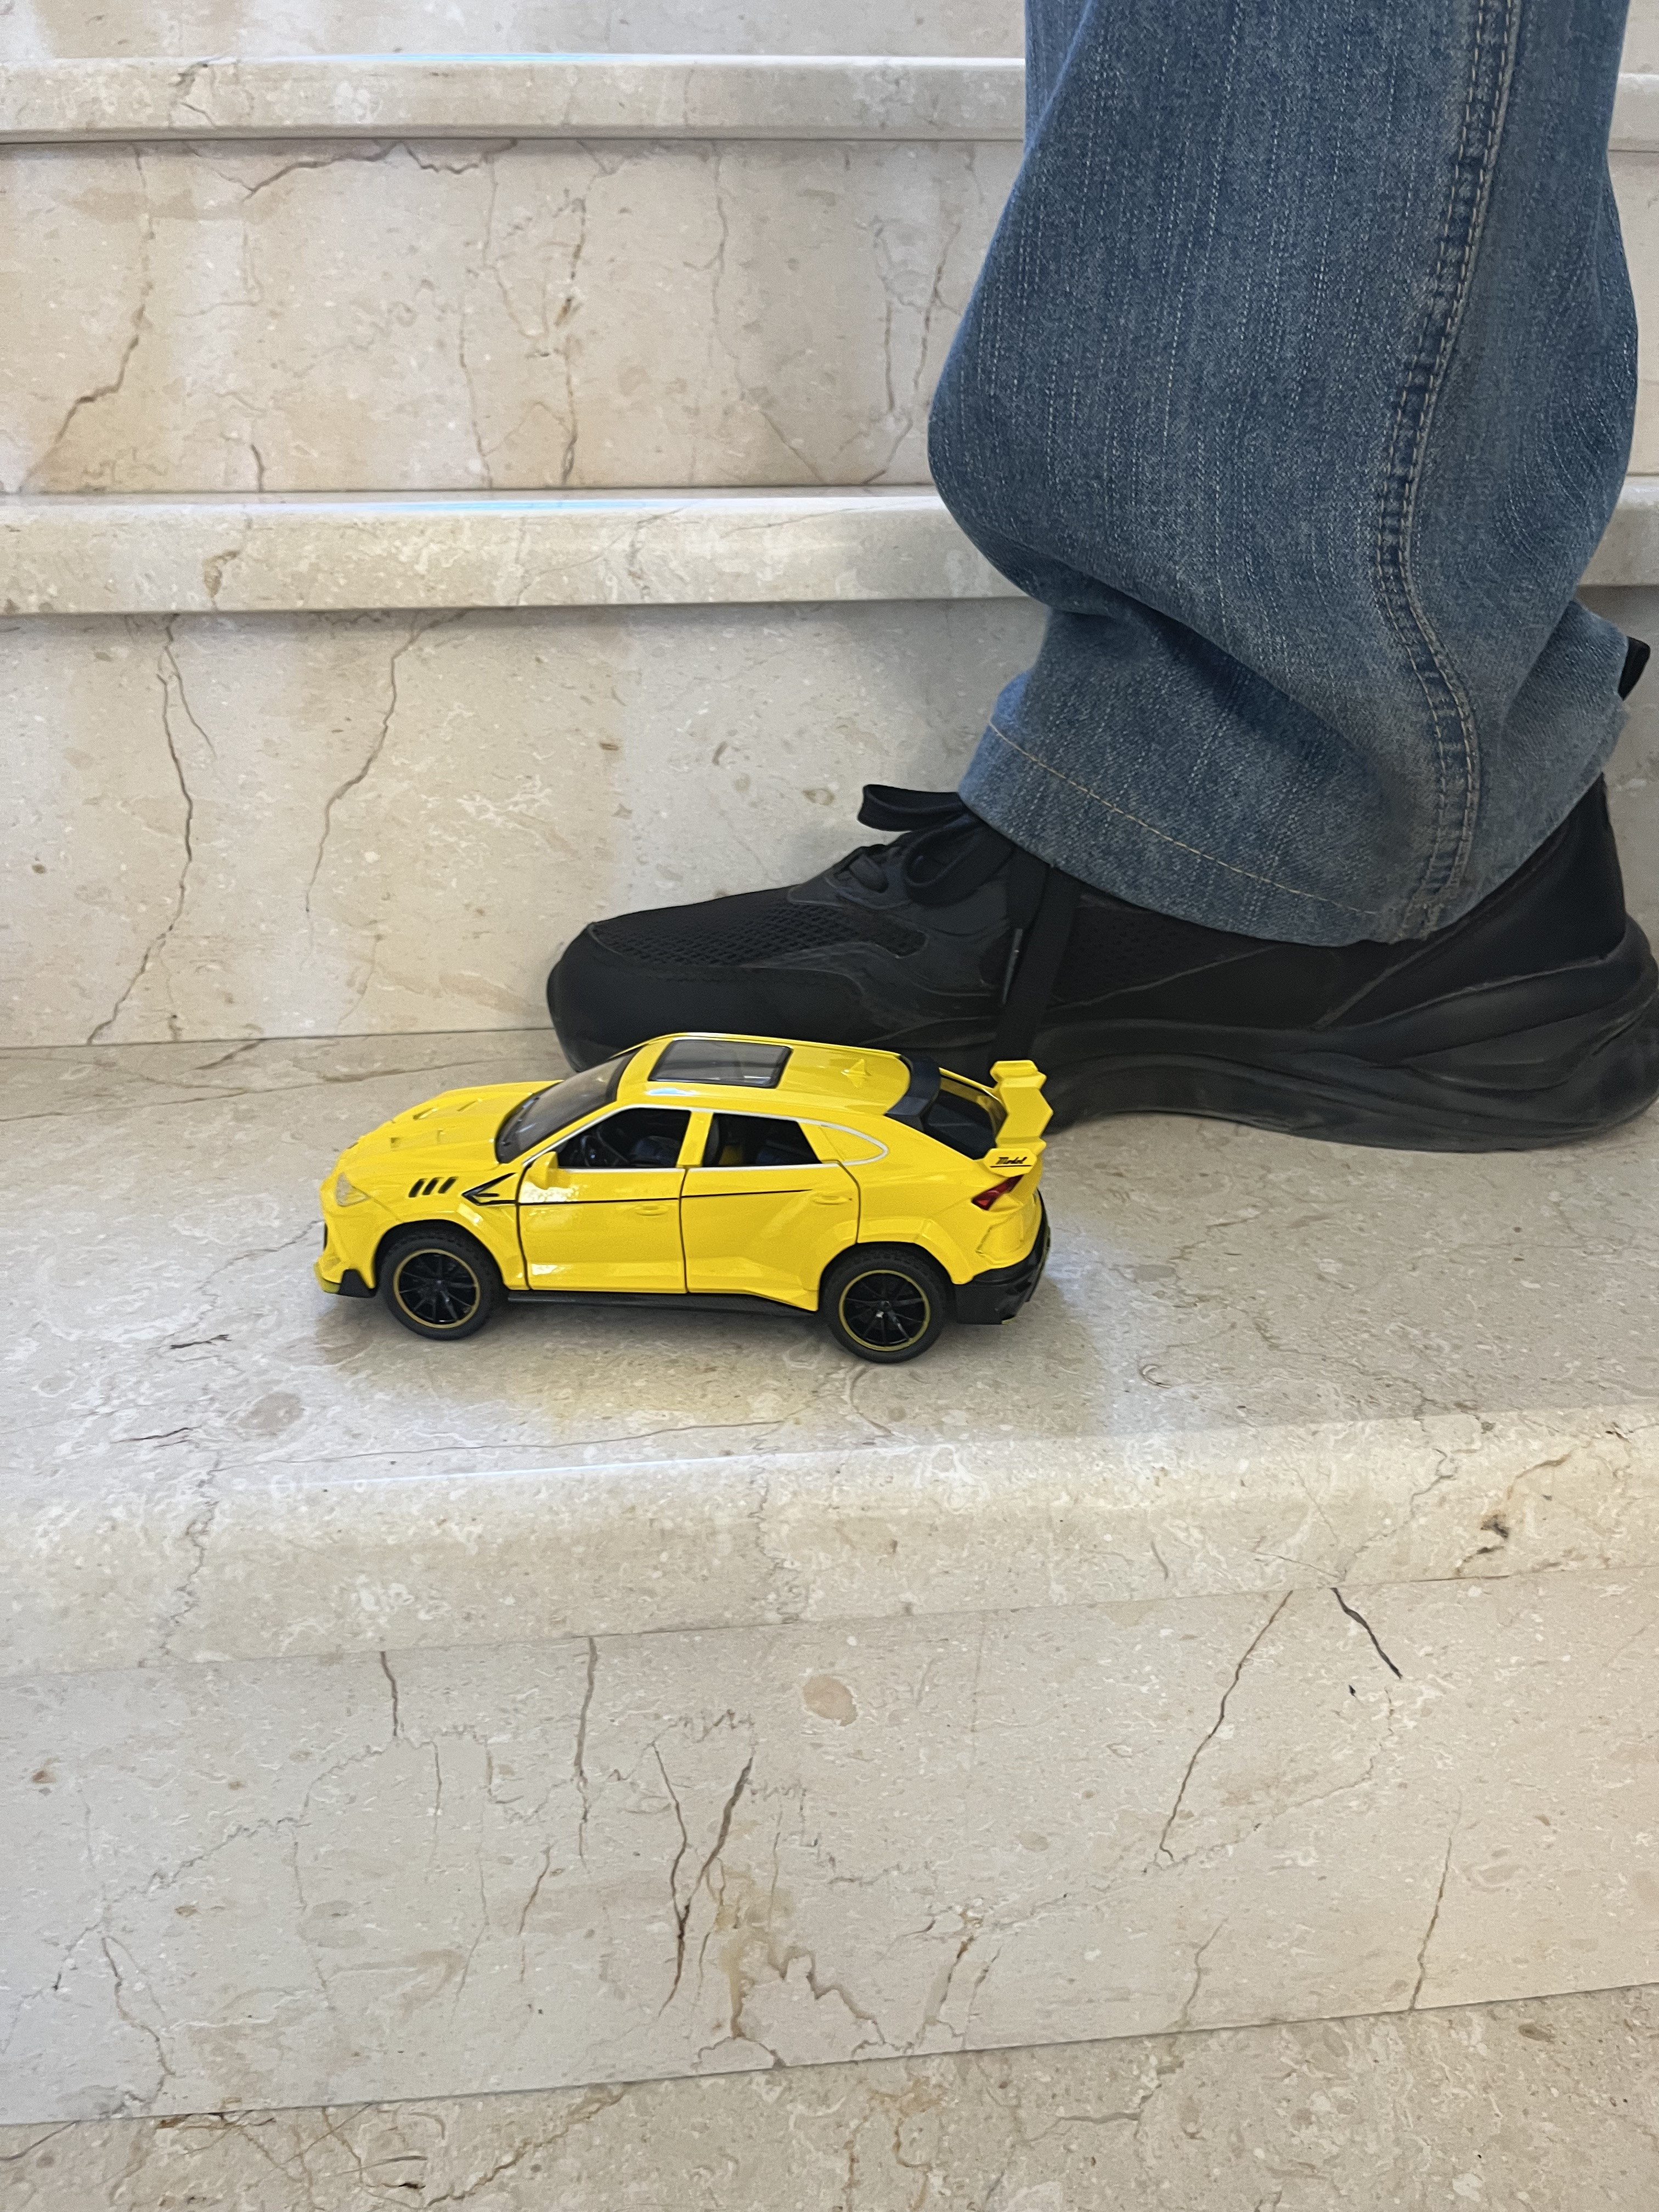lambo: (310, 1028, 1051, 1359)
